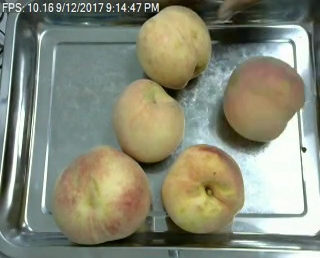Peach: (52, 145, 149, 244), (162, 144, 245, 234), (223, 57, 303, 142), (136, 4, 212, 89), (112, 77, 184, 162)
